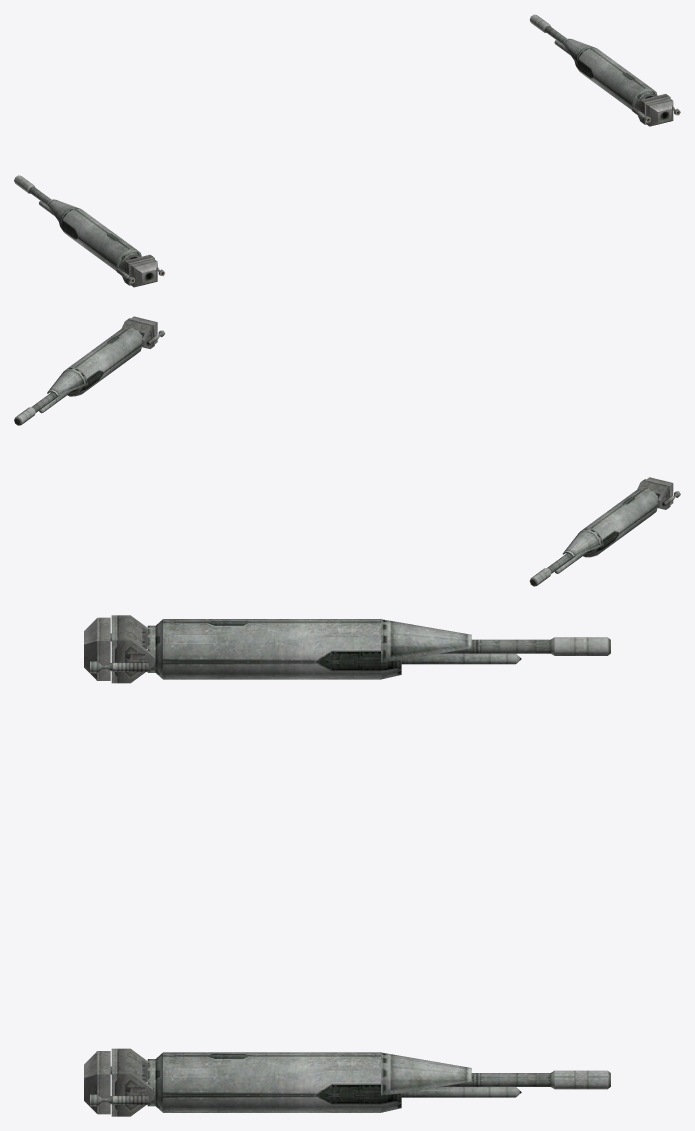
Rendered from xwing_weapon1_neg_s03_l0.fbx.
3 renders of one model, top to bottom at view 1: azimuth 30°, elevation 25°; view 2: azimuth 150°, elevation 25°; view 3: azimuth 270°, elevation 25°, orthographic. The views are drawn at different scales.
Parts seen in each view (by area): view 1: mesh_node; view 2: mesh_node; view 3: mesh_node.
Part boxes in pixels (x1,y1,x2,y2): mesh_node: [14, 14, 680, 287]; mesh_node: [14, 316, 680, 586]; mesh_node: [84, 615, 610, 1116].
Bounding box in the file's own units: 13.85 × 1.5 × 5.74.
Materials: 1 (1 with a texture image).
